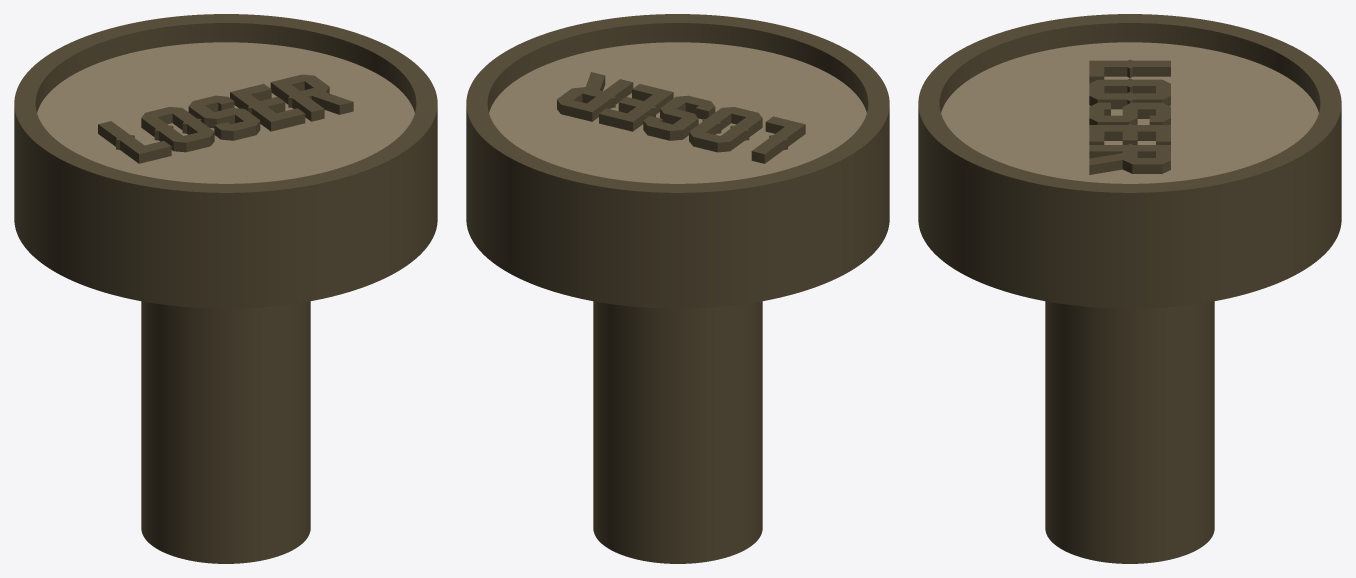
The model's file is LoserButton.fbx.
3 views of the same model, side by side, from view 1: azimuth 30°, elevation 25°; view 2: azimuth 150°, elevation 25°; view 3: azimuth 270°, elevation 25° (orthographic).
Parts seen in each view (by area): view 1: Cylinder, Cylinder.002, Circle, Text.003; view 2: Cylinder, Cylinder.002, Circle, Text.003; view 3: Cylinder, Cylinder.002, Circle, Text.003.
Boxes of the visible parts, x1,y1,x2,y2 form: Cylinder: (14,14,437,308); Cylinder.002: (141,301,310,563); Circle: (37,42,414,183); Text.003: (98,74,353,163); Cylinder: (466,14,889,308); Cylinder.002: (593,301,762,563); Circle: (489,42,866,183); Text.003: (557,72,805,163); Cylinder: (918,14,1341,308); Cylinder.002: (1045,301,1214,563); Circle: (941,42,1318,183); Text.003: (1089,59,1170,174).
Size of the model in its own units: 199 by 220 by 199.
